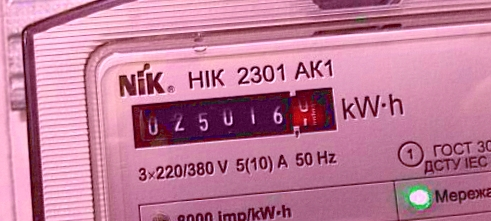0: (221, 104, 237, 128), (146, 114, 161, 137), (297, 93, 310, 114)
1: (246, 101, 259, 127), (300, 116, 309, 128)
2: (172, 109, 186, 133)
5: (197, 110, 209, 132)
6: (270, 102, 285, 128)
screen: (121, 77, 347, 156)
